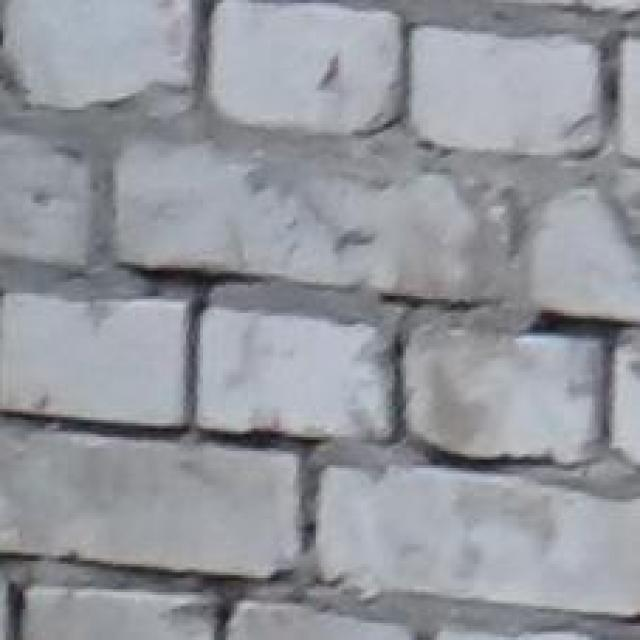Crack: (0, 192, 640, 577)
